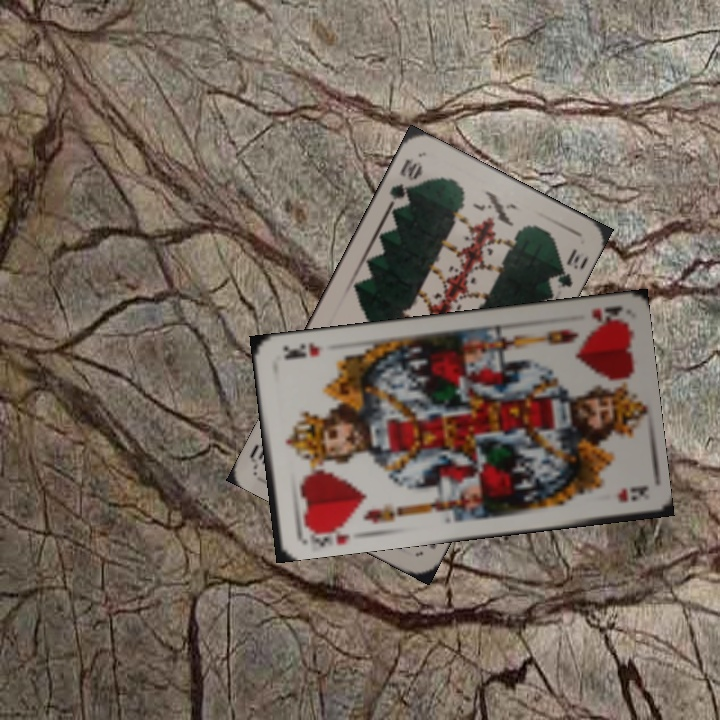G10: (385, 155, 425, 212)
HK: (298, 518, 353, 549), (587, 302, 624, 329)
